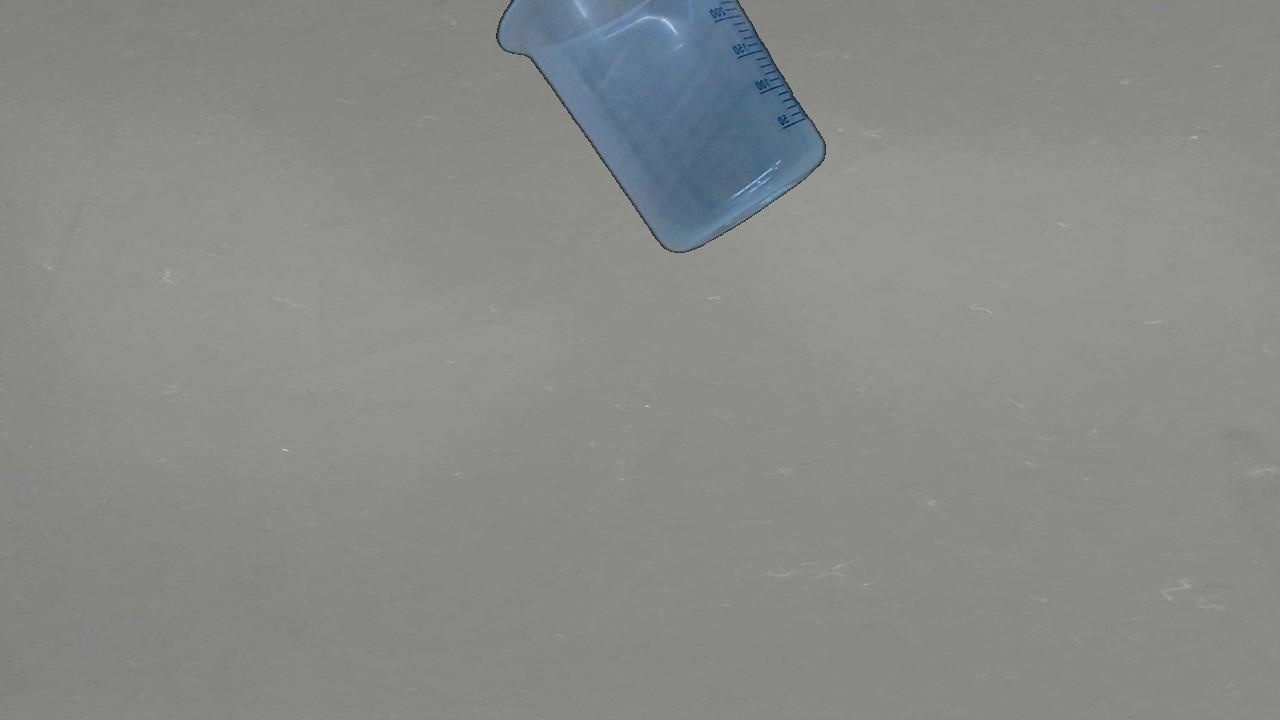becker: (495, 1, 826, 255)
